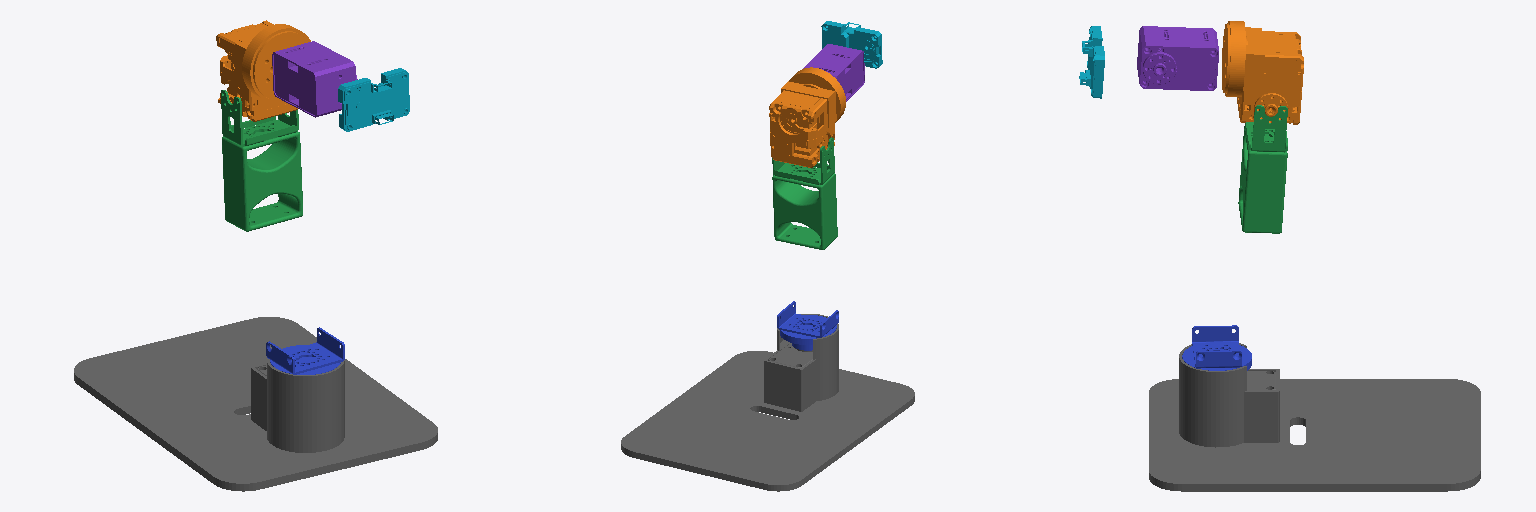
robot.urdf — robot_arm_fusion:
<?xml version="1.0"?>
<robot name="robot_arm_fusion">
  <material name="base_gray"><color rgba="0.45 0.45 0.45 1"/></material>
  <material name="yaw_blue"><color rgba="0.25 0.35 0.85 1"/></material>
  <material name="shoulder_green"><color rgba="0.2 0.65 0.35 1"/></material>
  <material name="upper_orange"><color rgba="0.95 0.55 0.15 1"/></material>
  <material name="forearm_purple"><color rgba="0.55 0.3 0.8 1"/></material>
  <material name="elbow_red"><color rgba="0.85 0.25 0.2 1"/></material>
  <material name="wrist_cyan"><color rgba="0.1 0.7 0.8 1"/></material>

  <link name="base_link">
    <inertial>
      <origin xyz="0 0 0" rpy="0 0 0"/>
      <mass value="0.1"/>
      <inertia ixx="0.0001" ixy="0" ixz="0" iyy="0.0001" iyz="0" izz="0.0001"/>
    </inertial>
    <visual>
      <origin xyz="-0.075 -0.0413 0" rpy="0 -0 0"/>
      <geometry><mesh filename="../cad/exports/fusion_meshes/arm_plate_v2_1.stl" scale="0.001 0.001 0.001"/></geometry>
      <material name="base_gray"/>
    </visual>
    <visual>
      <origin xyz="0.00015 -5e-05 0.022" rpy="-1.57772e-30 2.9525e-15 -3.14159"/>
      <geometry><mesh filename="../cad/exports/fusion_meshes/XM_H-430_idler_1_DUMMY_DC12_1.stl" scale="0.001 0.001 0.001"/></geometry>
      <material name="base_gray"/>
    </visual>
  </link>

  <link name="base_yaw_link">
    <inertial>
      <origin xyz="0 0 0" rpy="0 0 0"/>
      <mass value="0.1"/>
      <inertia ixx="0.0001" ixy="0" ixz="0" iyy="0.0001" iyz="0" izz="0.0001"/>
    </inertial>
    <visual>
      <origin xyz="3.15722e-30 -3.44974e-30 0.055" rpy="-3.14159 -1.58916e-17 -3.08048"/>
      <geometry><mesh filename="../cad/exports/fusion_meshes/arm_thrustA_1.stl" scale="0.001 0.001 0.001"/></geometry>
      <material name="yaw_blue"/>
    </visual>
    <visual>
      <origin xyz="2.45604e-16 1.19547e-16 0.0745" rpy="-3.14159 -2.05163e-15 -3.08048"/>
      <geometry><mesh filename="../cad/exports/fusion_meshes/fr12_s102_k_1.stl" scale="0.001 0.001 0.001"/></geometry>
      <material name="yaw_blue"/>
    </visual>
    <visual>
      <origin xyz="6.33757e-17 1.62178e-16 0.0955" rpy="1.5708 1.18611e-16 1.6319"/>
      <geometry><mesh filename="../cad/exports/fusion_meshes/XM_H-430_idler_2_DUMMY_DC12_1.stl" scale="0.001 0.001 0.001"/></geometry>
      <material name="yaw_blue"/>
    </visual>
  </link>

  <link name="shoulder_pitch_link">
    <inertial>
      <origin xyz="0 0 0" rpy="0 0 0"/>
      <mass value="0.1"/>
      <inertia ixx="0.0001" ixy="0" ixz="0" iyy="0.0001" iyz="0" izz="0.0001"/>
    </inertial>
    <visual>
      <origin xyz="-0.0131998 0.0237966 0.0161501" rpy="1.5019 2.11287e-15 0.061108"/>
      <geometry><mesh filename="../cad/exports/fusion_meshes/fr12_h101_k_1.stl" scale="0.001 0.001 0.001"/></geometry>
      <material name="shoulder_green"/>
    </visual>
    <visual>
      <origin xyz="-0.0347374 0.0401283 0.0971295" rpy="-1.85646e-14 1.5019 -1.50969"/>
      <geometry><mesh filename="../cad/exports/fusion_meshes/arm_part1_1.stl" scale="0.001 0.001 0.001"/></geometry>
      <material name="shoulder_green"/>
    </visual>
    <visual>
      <origin xyz="-0.0136622 0.031355 0.125889" rpy="-1.63969 2.96123e-16 0.061108"/>
      <geometry><mesh filename="../cad/exports/fusion_meshes/fr12_h101_k_2.stl" scale="0.001 0.001 0.001"/></geometry>
      <material name="shoulder_green"/>
    </visual>
  </link>

  <link name="upper_arm_link">
    <inertial>
      <origin xyz="0 0 0" rpy="0 0 0"/>
      <mass value="0.1"/>
      <inertia ixx="0.0001" ixy="0" ixz="0" iyy="0.0001" iyz="0" izz="0.0001"/>
    </inertial>
    <visual>
      <origin xyz="-3.26607e-05 0.000378369 0.00596068" rpy="1.5019 2.51529e-16 0.061108"/>
      <geometry><mesh filename="../cad/exports/fusion_meshes/2XC-430_1_DC14_A01_REF_1.stl" scale="0.001 0.001 0.001"/></geometry>
      <material name="upper_orange"/>
    </visual>
    <visual>
      <origin xyz="0.0155088 0.000501614 -0.00601085" rpy="-3.62933e-15 1.5019 -1.50969"/>
      <geometry><mesh filename="../cad/exports/fusion_meshes/2XC-430_1_DC11_A01_HORN_REF_ASM_1_DC11_A01_HORN_REF_1.stl" scale="0.001 0.001 0.001"/></geometry>
      <material name="upper_orange"/>
    </visual>
    <visual>
      <origin xyz="0.000862446 -0.0142514 0.0190006" rpy="1.5708 -1.5019 1.6319"/>
      <geometry><mesh filename="../cad/exports/fusion_meshes/2XC-430_1_DC11_A01_HORN_REF_ASM_2_DC11_A01_HORN_REF_1.stl" scale="0.001 0.001 0.001"/></geometry>
      <material name="upper_orange"/>
    </visual>
    <visual>
      <origin xyz="0.0011134 -0.0167154 0.0191614" rpy="1.5019 2.51323e-16 0.061108"/>
      <geometry><mesh filename="../cad/exports/fusion_meshes/arm_thrustC_1.stl" scale="0.001 0.001 0.001"/></geometry>
      <material name="upper_orange"/>
    </visual>
    <visual>
      <origin xyz="0.00165447 -0.0271963 0.0198956" rpy="-1.63969 -1.97853e-16 0.061108"/>
      <geometry><mesh filename="../cad/exports/fusion_meshes/arm_thrustB_1.stl" scale="0.001 0.001 0.001"/></geometry>
      <material name="upper_orange"/>
    </visual>
    <visual>
      <origin xyz="0.00284251 -0.0466137 0.021238" rpy="-1.63969 -1.83573e-16 0.061108"/>
      <geometry><mesh filename="../cad/exports/fusion_meshes/fr12_s102_k_2.stl" scale="0.001 0.001 0.001"/></geometry>
      <material name="upper_orange"/>
    </visual>
  </link>

  <link name="forearm_link">
    <inertial>
      <origin xyz="0 0 0" rpy="0 0 0"/>
      <mass value="0.1"/>
      <inertia ixx="0.0001" ixy="0" ixz="0" iyy="0.0001" iyz="0" izz="0.0001"/>
    </inertial>
    <visual>
      <origin xyz="-0.00777806 -0.000424807 -1.63223e-05" rpy="1.5708 -1.5019 1.6319"/>
      <geometry><mesh filename="../cad/exports/fusion_meshes/XC-430_idle_1_DC11_B01_CASE_M_DUMMY_1.stl" scale="0.001 0.001 0.001"/></geometry>
      <material name="forearm_purple"/>
    </visual>
    <visual>
      <origin xyz="-0.00777806 -0.000424807 -1.63223e-05" rpy="1.5708 -1.5019 1.6319"/>
      <geometry><mesh filename="../cad/exports/fusion_meshes/XC-430_idle_1_DC11_B01_CASE_F_DUMMY_1.stl" scale="0.001 0.001 0.001"/></geometry>
      <material name="forearm_purple"/>
    </visual>
    <visual>
      <origin xyz="-0.00777806 -0.000424807 -1.63223e-05" rpy="1.5708 -1.5019 1.6319"/>
      <geometry><mesh filename="../cad/exports/fusion_meshes/XC-430_idle_1_DC11_B01_CASE_B_DUMMY2_1.stl" scale="0.001 0.001 0.001"/></geometry>
      <material name="forearm_purple"/>
    </visual>
    <visual>
      <origin xyz="0.00769301 0.000521777 -1.63223e-05" rpy="-6.34185e-14 -0.0688963 -1.50969"/>
      <geometry><mesh filename="../cad/exports/fusion_meshes/XC-430_idle_1_M_DC11_A01_HORN_ASM_1_M_DC11_A01_HORN_1.stl" scale="0.001 0.001 0.001"/></geometry>
      <material name="forearm_purple"/>
    </visual>
    <visual>
      <origin xyz="-0.0264834 -0.0303827 -0.0100603" rpy="1.5019 6.32561e-14 0.061108"/>
      <geometry><mesh filename="../cad/exports/fusion_meshes/arm_hand_v2_1.stl" scale="0.001 0.001 0.001"/></geometry>
      <material name="forearm_purple"/>
    </visual>
    <visual>
      <origin xyz="-0.00777806 -0.000424807 -1.63223e-05" rpy="0.0688963 -6.3055e-14 -3.08048"/>
      <geometry><mesh filename="../cad/exports/fusion_meshes/fr12_h101_k_3.stl" scale="0.001 0.001 0.001"/></geometry>
      <material name="forearm_purple"/>
    </visual>
  </link>

  <link name="elbow_roll_link">
    <inertial>
      <origin xyz="0 0 0" rpy="0 0 0"/>
      <mass value="0.1"/>
      <inertia ixx="0.0001" ixy="0" ixz="0" iyy="0.0001" iyz="0" izz="0.0001"/>
    </inertial>
  </link>

  <link name="wrist_pitch_link">
    <inertial>
      <origin xyz="0 0 0" rpy="0 0 0"/>
      <mass value="0.1"/>
      <inertia ixx="0.0001" ixy="0" ixz="0" iyy="0.0001" iyz="0" izz="0.0001"/>
    </inertial>
    <visual>
      <origin xyz="-0.00050996 0.00769539 -0.000536548" rpy="9.26811e-13 -1.5019 1.6319"/>
      <geometry><mesh filename="../cad/exports/fusion_meshes/XC-430_idle_2_DC11_B01_CASE_M_DUMMY_1.stl" scale="0.001 0.001 0.001"/></geometry>
      <material name="wrist_cyan"/>
    </visual>
    <visual>
      <origin xyz="-0.00050996 0.00769539 -0.000536548" rpy="9.26846e-13 -1.5019 1.6319"/>
      <geometry><mesh filename="../cad/exports/fusion_meshes/XC-430_idle_2_DC11_B01_CASE_F_DUMMY_1.stl" scale="0.001 0.001 0.001"/></geometry>
      <material name="wrist_cyan"/>
    </visual>
    <visual>
      <origin xyz="-0.00050996 0.00769539 -0.000536548" rpy="9.26805e-13 -1.5019 1.6319"/>
      <geometry><mesh filename="../cad/exports/fusion_meshes/XC-430_idle_2_DC11_B01_CASE_B_DUMMY2_1.stl" scale="0.001 0.001 0.001"/></geometry>
      <material name="wrist_cyan"/>
    </visual>
    <visual>
      <origin xyz="0.000434379 -0.00773898 0.000530501" rpy="0.0688963 -6.54787e-14 -3.08048"/>
      <geometry><mesh filename="../cad/exports/fusion_meshes/XC-430_idle_2_M_DC11_A01_HORN_ASM_1_M_DC11_A01_HORN_1.stl" scale="0.001 0.001 0.001"/></geometry>
      <material name="wrist_cyan"/>
    </visual>
  </link>

  <joint name="base_yaw_joint" type="revolute">
    <parent link="base_link"/>
    <child link="base_yaw_link"/>
    <origin xyz="0 0 0" rpy="0 0 0"/>
    <axis xyz="0 0 1"/>
    <limit lower="-3.14159" upper="3.14159" effort="2.0" velocity="1.0"/>
  </joint>

  <joint name="shoulder_pitch_joint" type="revolute">
    <parent link="base_yaw_link"/>
    <child link="shoulder_pitch_link"/>
    <origin xyz="0 0 0.0955" rpy="0 0 0"/>
    <axis xyz="1 0 0"/>
    <limit lower="-1.5708" upper="1.5708" effort="2.0" velocity="1.0"/>
  </joint>

  <joint name="upper_arm_roll_joint" type="revolute">
    <parent link="shoulder_pitch_link"/>
    <child link="upper_arm_link"/>
    <origin xyz="-0.0137 0.0318 0.1319" rpy="0 0 0"/>
    <axis xyz="0 0 -1"/>
    <limit lower="-1.5708" upper="1.5708" effort="2.0" velocity="1.0"/>
  </joint>

  <joint name="elbow_pitch_joint" type="revolute">
    <parent link="upper_arm_link"/>
    <child link="forearm_link"/>
    <origin xyz="0.0119 -0.0671 0.0227" rpy="0 0 0"/>
    <axis xyz="0 1 0"/>
    <limit lower="-1.5708" upper="1.5708" effort="2.0" velocity="1.0"/>
  </joint>

  <joint name="elbow_roll_joint" type="revolute">
    <parent link="forearm_link"/>
    <child link="elbow_roll_link"/>
    <origin xyz="-0.0078 -0.0004 0" rpy="0 0 0"/>
    <axis xyz="-1 0 0"/>
    <limit lower="-1.5708" upper="1.5708" effort="2.0" velocity="1.0"/>
  </joint>

  <joint name="wrist_pitch_joint" type="revolute">
    <parent link="elbow_roll_link"/>
    <child link="wrist_pitch_link"/>
    <origin xyz="0.0037 -0.0595 0.0041" rpy="0 0 0"/>
    <axis xyz="0 1 0"/>
    <limit lower="-1.5708" upper="1.5708" effort="2.0" velocity="1.0"/>
  </joint>

</robot>

--- Render facts (derived) ---
The picture shows the robot from 3 angles, left to right: view 1: azimuth 30°, elevation 25°; view 2: azimuth 150°, elevation 25°; view 3: azimuth 270°, elevation 25°; orthographic projection.
Model robot_arm_fusion with 7 links and 6 joints (6 revolute), rooted at base_link, posed every joint at zero.
Links seen in each view (by area): view 1: base_link, shoulder_pitch_link, upper_arm_link, forearm_link, wrist_pitch_link, base_yaw_link; view 2: base_link, upper_arm_link, shoulder_pitch_link, forearm_link, base_yaw_link, wrist_pitch_link; view 3: base_link, upper_arm_link, shoulder_pitch_link, forearm_link, base_yaw_link, wrist_pitch_link.
Link boxes in pixels (x1,y1,x2,y2): base_link: (74,317,437,491); shoulder_pitch_link: (221,90,302,231); upper_arm_link: (216,20,310,121); forearm_link: (272,41,357,117); wrist_pitch_link: (338,68,409,131); base_yaw_link: (266,327,344,374); base_link: (621,314,914,491); upper_arm_link: (769,67,845,167); shoulder_pitch_link: (772,137,837,249); forearm_link: (803,44,864,101); base_yaw_link: (777,301,838,350); wrist_pitch_link: (821,21,882,68); base_link: (1149,343,1480,491); upper_arm_link: (1222,21,1303,124); shoulder_pitch_link: (1238,105,1287,233); forearm_link: (1137,26,1218,90); base_yaw_link: (1182,325,1251,370); wrist_pitch_link: (1079,26,1104,98).
Bounding box of the posed robot: 0.15 × 0.2418 × 0.2701 m (x, y, z).
14 mesh visuals loaded from 24 distinct referenced files (14 binary STL); not drawn: 10 (reference not matched to a file when rendering).
